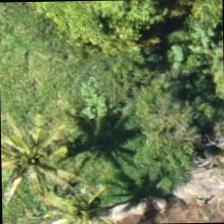Kelapa_Sawit: (0, 105, 83, 197), (35, 173, 128, 223)
